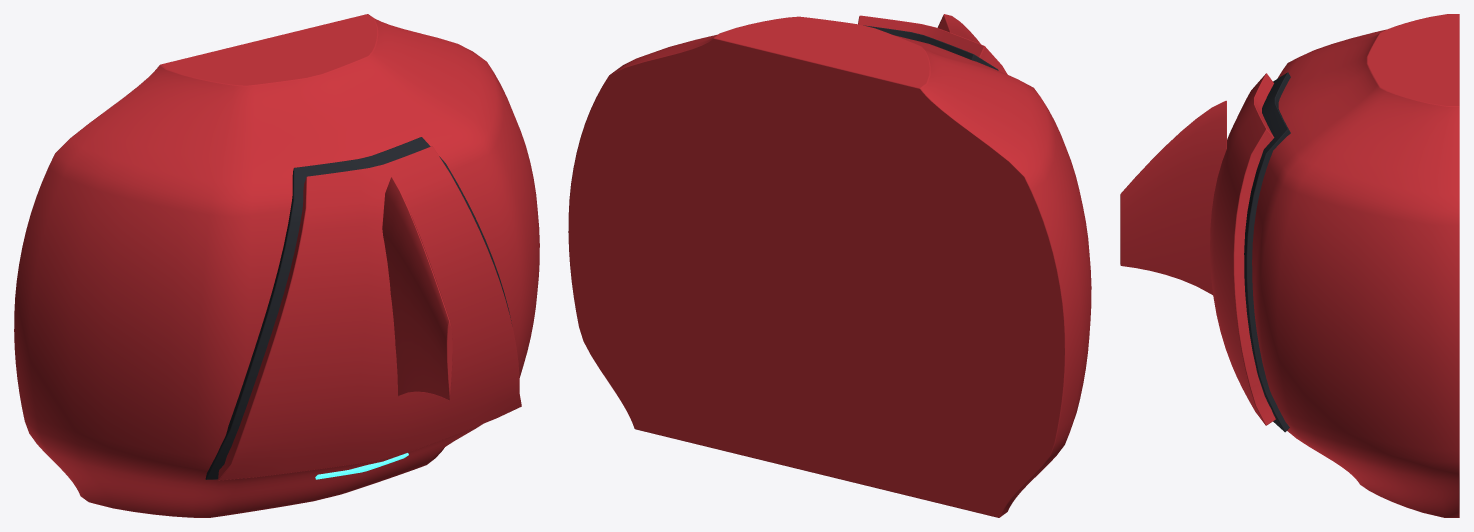
Rendered from ShoulderFront_Set01_Ironclad.fbx.
3 renders of one model, left to right at view 1: azimuth 30°, elevation 25°; view 2: azimuth 150°, elevation 25°; view 3: azimuth 270°, elevation 25°, orthographic. The views are drawn at different scales.
Parts seen in each view (by area): view 1: ShoulderFront_Set01_Ironclad; view 2: ShoulderFront_Set01_Ironclad; view 3: ShoulderFront_Set01_Ironclad.
Boxes of the visible parts, x1,y1,x2,y2 form: ShoulderFront_Set01_Ironclad: (14, 14, 539, 517); ShoulderFront_Set01_Ironclad: (568, 14, 1091, 517); ShoulderFront_Set01_Ironclad: (1120, 14, 1459, 517).
Bounding box in the file's own units: 0.4437 × 0.35 × 0.2861.
